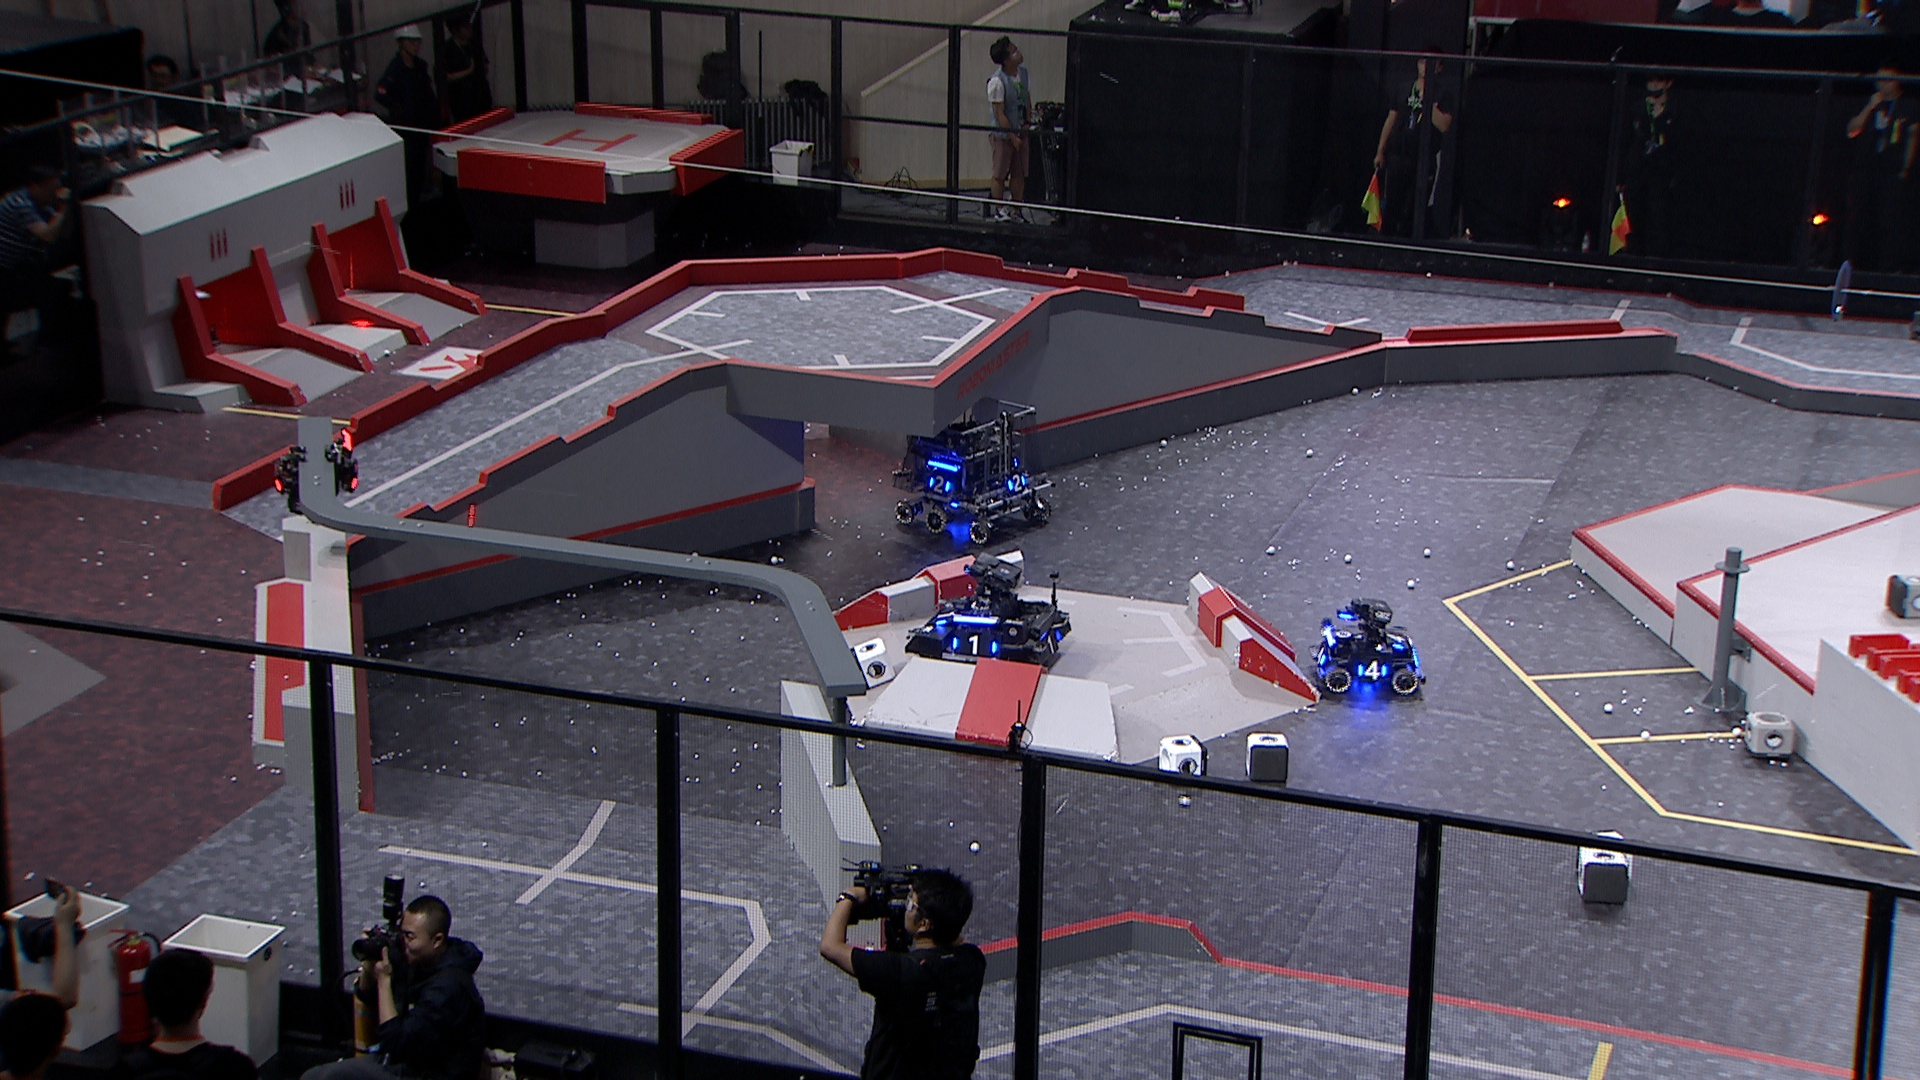armor: (949, 632, 1001, 659), (1357, 659, 1390, 684), (1385, 626, 1408, 654), (1040, 632, 1063, 659), (934, 605, 959, 629), (928, 475, 953, 496), (1007, 473, 1027, 495), (1313, 645, 1329, 670)
car: (887, 392, 1058, 545), (903, 553, 1072, 675), (1309, 597, 1428, 699)
watcher: (272, 429, 361, 520)
